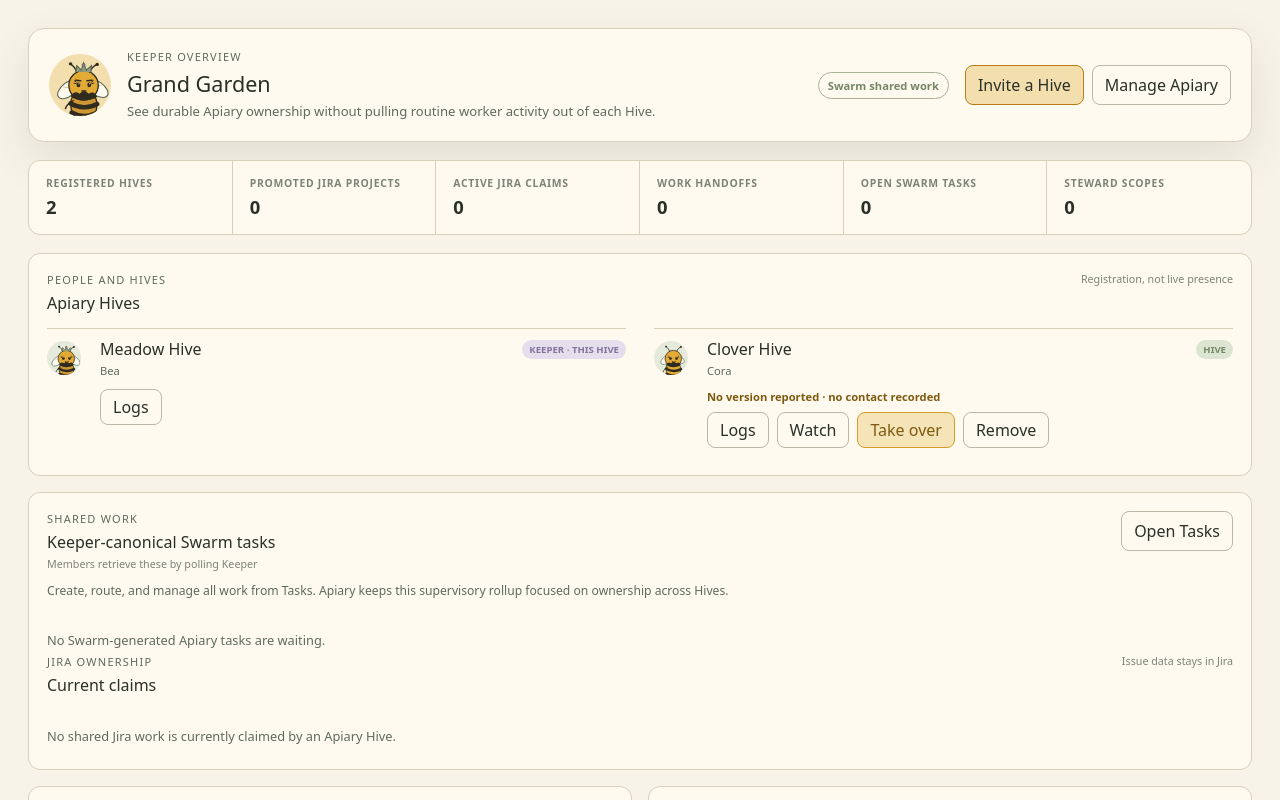
Scenario: handing a Hive back ends the lease and keeps watching it
The width and height of the screenshot is (1280, 800).
Click the button "Take over" at [906, 430], box x1=858 y1=412 x2=955 y2=448
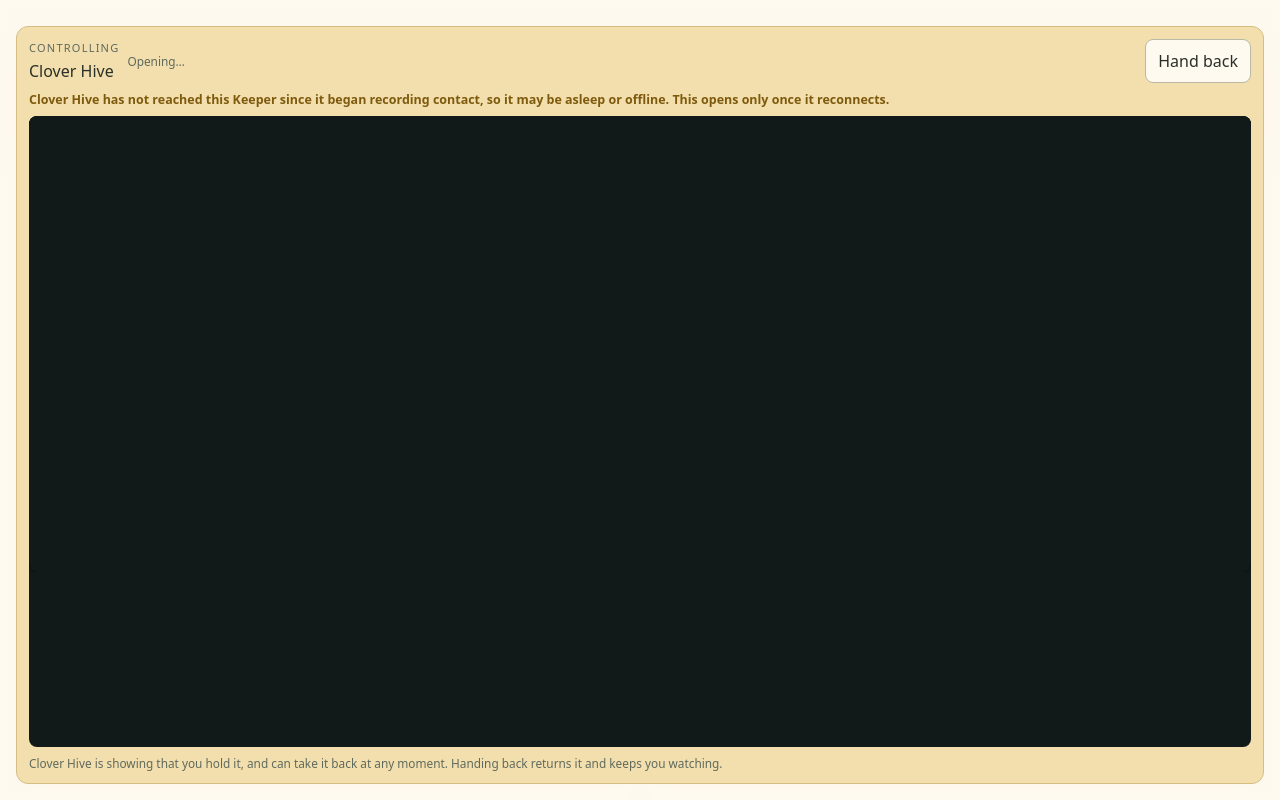
Click the button "Hand back" at [1198, 61], box x1=1145 y1=39 x2=1251 y2=83
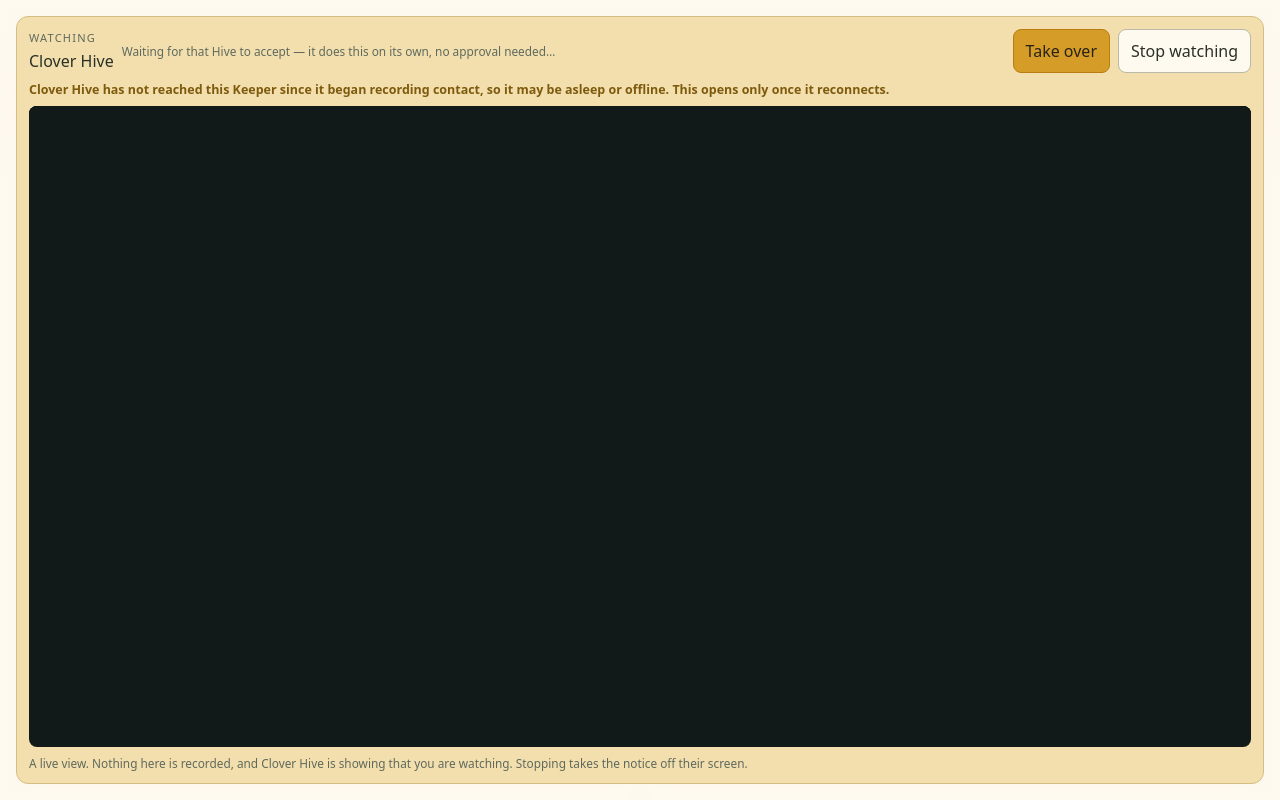
Expected: the dialog named "Live window into Clover Hive" is shown
